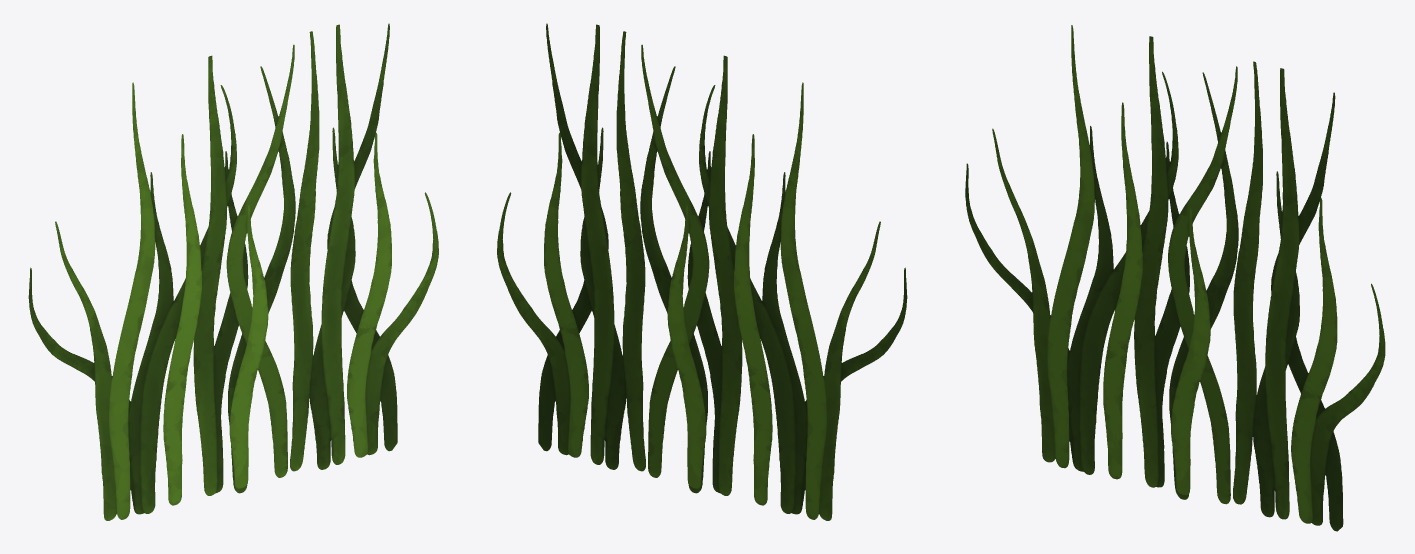
Rendered from Grass_01.fbx.
3 renders of one model, left to right at view 1: azimuth 30°, elevation 25°; view 2: azimuth 150°, elevation 25°; view 3: azimuth 330°, elevation 25°, orthographic. The views are drawn at different scales.
Visible parts, largest first — view 1: Big_Grass; view 2: Big_Grass; view 3: Big_Grass.
Part boxes in pixels (x1,y1,x2,y2): Big_Grass: (28,23,438,520); Big_Grass: (497,23,907,520); Big_Grass: (965,25,1385,531).
Bounding box in the file's own units: 0.4937 × 0.4854 × 0.
